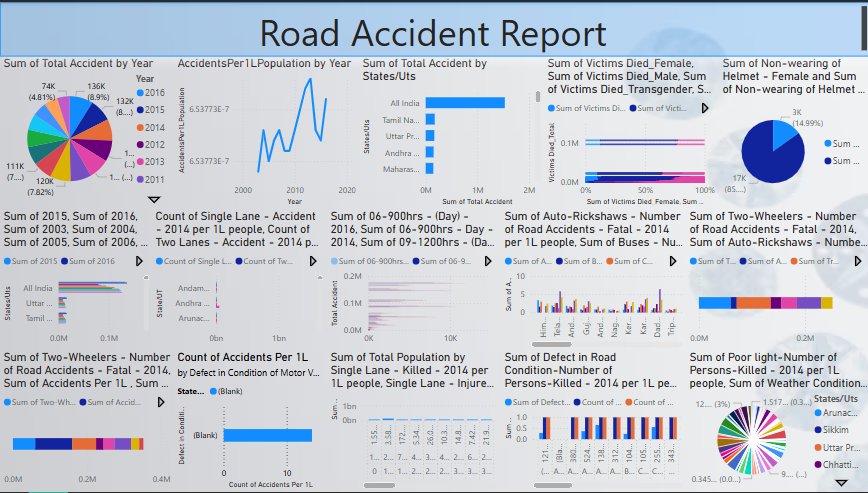

This screenshot's page, from the dashboard's own definition file:
{"tool":"powerbi","page":{"name":"Page 1","canvas":[1280,720],"ordinal":0},"visuals":[{"type":"pieChart","fields":{"Category":["accidentRate.Year"],"Y":["Sum(accidentRate.All India)"]},"box":[0,80,256,224],"z":0},{"type":"lineChart","fields":{"Y":["accidentRate.AccidentsPer1LPopulation"],"Category":["accidentRate.Year"]},"box":[256,80,272,224],"z":1000},{"type":"clusteredBarChart","fields":{"Category":["accidents03_16.States/Uts"],"Y":["Sum(accidents03_16.Total Accident)"]},"box":[528,80,272,224],"z":2000},{"type":"hundredPercentStackedBarChart","fields":{"Y":["Sum(Details_of_road_accident_deaths.Victims Died_Female)","Sum(Details_of_road_accident_deaths.Victims Died_Male)","Sum(Details_of_road_accident_deaths.Victims Died_Transgender)","Sum(Details_of_road_accident_deaths.Offenders (Driver/Pedestrian) Died_Female)","Sum(Details_of_road_accident_deaths.Offenders (Driver/Pedestrian) Died_Male)","Sum(Details_of_road_accident_deaths.Offenders (Driver/Pedestrian) Died_Transgender)"],"Category":["Details_of_road_accident_deaths.Victims Died_Total","Details_of_road_accident_deaths.Offenders (Driver/Pedestrian) Died_Total"]},"box":[800,80,256,224],"z":3000},{"type":"pieChart","fields":{"Y":["Sum(Persons_killed_due_to_Non_use_o.Non-wearing of Helmet - Female)","Sum(Persons_killed_due_to_Non_use_o.Non-wearing of Helmet - Male)"]},"box":[1056,80,224,224],"z":4000},{"type":"clusteredBarChart","fields":{"Category":["accidents03_16.States/Uts","accidentRate.Year"],"Y":["Sum(accidents03_16.2015)","Sum(accidents03_16.2016)","Sum(accidents03_16.2003)","Sum(accidents03_16.2004)","Sum(accidents03_16.2005)","Sum(accidents03_16.2006)","Sum(accidents03_16.2007)","Sum(accidents03_16.2009)","Sum(accidents03_16.2008)","Sum(accidents03_16.2010)","Sum(accidents03_16.2011)","Sum(accidents03_16.2012)"]},"box":[0,304,224,208],"z":5000},{"type":"clusteredBarChart","fields":{"Category":["laneAccidents.State/UT"],"Y":["CountNonNull(laneAccidents.Single Lane - Accident - 2014 per 1L people)","CountNonNull(laneAccidents.Two Lanes - Accident - 2014 per 1L people)","CountNonNull(laneAccidents.4 Lanes with Median - Accident - 2014 per 1L people)","CountNonNull(laneAccidents.3 Lanes or more w.o Median - Accident - 2014 per 1L people)","Sum(laneAccidents.Population)"]},"box":[224,304,256,208],"z":5001},{"type":"textbox","box":[0,0,1280,80],"z":5002},{"type":"clusteredBarChart","fields":{"Y":["Sum(Worksheet__2.06-900hrs - (Day) - 2016)","Sum(Worksheet__2.06-900hrs - Day - 2014)","Sum(Worksheet__2.09-1200hrs - (Day) - 2016)","Sum(Worksheet__2.09-1200hrs - Day - 2014)","Sum(Worksheet__2.12-1500hrs - (Day) - 2016)","Sum(Worksheet__2.12-1500hrs - Day - 2014)","Sum(Worksheet__2.15-1800hrs - (Day) - 2016)","Sum(Worksheet__2.15-1800hrs - Day - 2014)"],"Category":["accidents03_16.Total Accident"]},"box":[480,304,256,208],"z":5007},{"type":"clusteredColumnChart","fields":{"Category":["accidents03_16.States/Uts"],"Y":["Sum(typeOfVehicle.Auto-Rickshaws - Number of Road Accidents - Fatal - 2014 per 1L people)","Sum(typeOfVehicle.Buses - Number of Road Accidents - Fatal - 2014 per 1L people)","Sum(typeOfVehicle.Cars, Jeeps,Taxis - Number of Road Accidents - Fatal - 2014 per 1L people)","Sum(typeOfVehicle.Other Motor Vehicles - Number of Road Accidents - Fatal - 2014 per 1L people)","Sum(typeOfVehicle.Other Vehicles/Objects - Number of Road Accidents - Fatal - 2014 per 1L people)","Sum(typeOfVehicle.Trucks, Tempos,MAVs,Tractors - Number of Road Accidents - Fatal - 2014 per 1L people)","Sum(typeOfVehicle.Two-Wheelers - Number of Road Accidents - Fatal - 2014 per 1L people)"]},"box":[736,304,272,208],"z":5008},{"type":"barChart","fields":{"Y":["Sum(typeOfVehicle.Two-Wheelers - Number of Road Accidents - Fatal - 2014)","Sum(typeOfVehicle.Auto-Rickshaws - Number of Road Accidents - Fatal - 2014)","Sum(typeOfVehicle.Trucks, Tempos,MAVs,Tractors - Number of Road Accidents - Fatal - 2014)","Sum(typeOfVehicle.Other Vehicles/Objects - Number of Road Accidents - Fatal - 2014)","Sum(typeOfVehicle.Other Motor Vehicles - Number of Road Accidents - Fatal - 2014)","Sum(typeOfVehicle.Cars, Jeeps,Taxis - Number of Road Accidents - Fatal - 2014)","Sum(typeOfVehicle.Buses - Number of Road Accidents - Fatal - 2014)"]},"box":[1008,304,272,208],"z":5009},{"type":"barChart","fields":{"Y":["Sum(typeOfVehicle.Two-Wheelers - Number of Road Accidents - Fatal - 2014)","Sum(accidentRate.Accidents Per 1L )","Sum(typeOfVehicle.Trucks, Tempos,MAVs,Tractors - Number of Road Accidents - Fatal - 2014)","Sum(typeOfVehicle.Other Vehicles/Objects - Number of Road Accidents - Fatal - 2014)","Sum(typeOfVehicle.Other Motor Vehicles - Number of Road Accidents - Fatal - 2014)","Sum(typeOfVehicle.Cars, Jeeps,Taxis - Number of Road Accidents - Fatal - 2014)","Sum(typeOfVehicle.Buses - Number of Road Accidents - Fatal - 2014)","Sum(typeOfVehicle.Auto-Rickshaws - Number of Road Accidents - Fatal - 2014)"]},"box":[0,512,256,208],"z":5010},{"type":"clusteredBarChart","fields":{"Category":["reasonOfAccident.Defect in Condition of Motor Vehicle-Total No. of Road Accidents - 2014","reasonOfAccident.Falling of boulders-Total No. of Road Accidents - 2014","reasonOfAccident.Fault of Driver of other vehicles-Total No. of Road Accidents - 2014","reasonOfAccident.Fault of Passenger-Total No. of Road Accidents - 2014","reasonOfAccident.Fault of Pedestrian-Total No. of Road Accidents - 2014","reasonOfAccident.Other causes/causes not known-Total No. of Road Accidents - 2014","reasonOfAccident.Poor light-Total No. of Road Accidents - 2014","reasonOfAccident.Weather Condition-Total No. of Road Accidents - 2014","reasonOfAccident.Defect in Road Condition-Total No. of Road Accidents - 2014"],"Y":["CountNonNull(accidentRate.Accidents Per 1L )"],"Series":["reasonOfAccident.States/UTs"]},"box":[256,512,224,208],"z":5011},{"type":"clusteredColumnChart","fields":{"Category":["laneAccidents.Single Lane - Killed - 2014 per 1L people","laneAccidents.Single Lane - Injured - 2014 per 1L people","laneAccidents.Single Lane - Accident - 2014 per 1L people"],"Y":["Sum(laneAccidents.Total Population)"]},"box":[480,512,256,208],"z":5012},{"type":"clusteredColumnChart","fields":{"Category":["accidents03_16.States/Uts","reasonOfAccident.Population"],"Y":["Sum(reasonOfAccident.Defect in Road Condition-Number of Persons-Killed - 2014 per 1L people)","CountNonNull(reasonOfAccident.Defect in Condition of Motor Vehicle-Number of Persons-Injured - 2014 per 1L people)","CountNonNull(reasonOfAccident.Defect in Condition of Motor Vehicle-Total No. of Road Accidents - 2014 per 1L people)"]},"box":[736,512,272,208],"z":5013},{"type":"pieChart","fields":{"Y":["Sum(reasonOfAccident.Poor light-Number of Persons-Killed - 2014 per 1L people)","Sum(reasonOfAccident.Weather Condition-Number of Persons-Killed - 2014 per 1L people)","Sum(reasonOfAccident.Fault of Pedestrian-Number of Persons-Killed - 2014 per 1L people)","Sum(reasonOfAccident.Other causes/causes not known-Number of Persons-Killed - 2014 per 1L people)","Sum(reasonOfAccident.Fault of Passenger-Number of Persons-Killed - 2014 per 1L people)","Sum(reasonOfAccident.Fault of Driver-Number of Persons-Killed - 2014 per 1L people)","Sum(reasonOfAccident.Fault of Driver of other vehicles-Number of Persons-Killed - 2014 per 1L people)","Sum(reasonOfAccident.Falling of boulders-Number of Persons-Killed - 2014 per 1L people)","Sum(reasonOfAccident.Defect in Road Condition-Number of Persons-Killed - 2014 per 1L people)","Sum(reasonOfAccident.Defect in Condition of Motor Vehicle-Number of Persons-Killed - 2014 per 1L people)"],"Category":["accidents03_16.States/Uts"]},"box":[1008,512,272,208],"z":5014}]}

Visuals, with their boxes in screenshot pixels (x1, y1, x2, y2), scaled from the page's 1280x720 canvas onto the 868x493 screenshot:
pieChart - accidentRate.Year x Sum(accidentRate.All India): select_region(0, 55, 174, 208)
lineChart - accidentRate.AccidentsPer1LPopulation x accidentRate.Year: select_region(174, 55, 358, 208)
clusteredBarChart - accidents03_16.States/Uts x Sum(accidents03_16.Total Accident): select_region(358, 55, 542, 208)
hundredPercentStackedBarChart - Sum(Details_of_road_accident_deaths.Victims Died_Female) x Sum(Details_of_road_accident_deaths.Victims Died_Male): select_region(542, 55, 716, 208)
pieChart - Sum(Persons_killed_due_to_Non_use_o.Non-wearing of Helmet - Female) x Sum(Persons_killed_due_to_Non_use_o.Non-wearing of Helmet - Male): select_region(716, 55, 867, 208)
clusteredBarChart - accidents03_16.States/Uts x accidentRate.Year: select_region(0, 208, 152, 351)
clusteredBarChart - laneAccidents.State/UT x CountNonNull(laneAccidents.Single Lane - Accident - 2014 per 1L people): select_region(152, 208, 326, 351)
textbox: select_region(0, 0, 867, 55)
clusteredBarChart - Sum(Worksheet__2.06-900hrs - (Day) - 2016) x Sum(Worksheet__2.06-900hrs - Day - 2014): select_region(326, 208, 499, 351)
clusteredColumnChart - accidents03_16.States/Uts x Sum(typeOfVehicle.Auto-Rickshaws - Number of Road Accidents - Fatal - 2014 per 1L people): select_region(499, 208, 684, 351)
barChart - Sum(typeOfVehicle.Two-Wheelers - Number of Road Accidents - Fatal - 2014) x Sum(typeOfVehicle.Auto-Rickshaws - Number of Road Accidents - Fatal - 2014): select_region(684, 208, 867, 351)
barChart - Sum(typeOfVehicle.Two-Wheelers - Number of Road Accidents - Fatal - 2014) x Sum(accidentRate.Accidents Per 1L ): select_region(0, 351, 174, 492)
clusteredBarChart - reasonOfAccident.Defect in Condition of Motor Vehicle-Total No. of Road Accidents - 2014 x reasonOfAccident.Falling of boulders-Total No. of Road Accidents - 2014: select_region(174, 351, 326, 492)
clusteredColumnChart - laneAccidents.Single Lane - Killed - 2014 per 1L people x laneAccidents.Single Lane - Injured - 2014 per 1L people: select_region(326, 351, 499, 492)
clusteredColumnChart - accidents03_16.States/Uts x reasonOfAccident.Population: select_region(499, 351, 684, 492)
pieChart - Sum(reasonOfAccident.Poor light-Number of Persons-Killed - 2014 per 1L people) x Sum(reasonOfAccident.Weather Condition-Number of Persons-Killed - 2014 per 1L people): select_region(684, 351, 867, 492)
